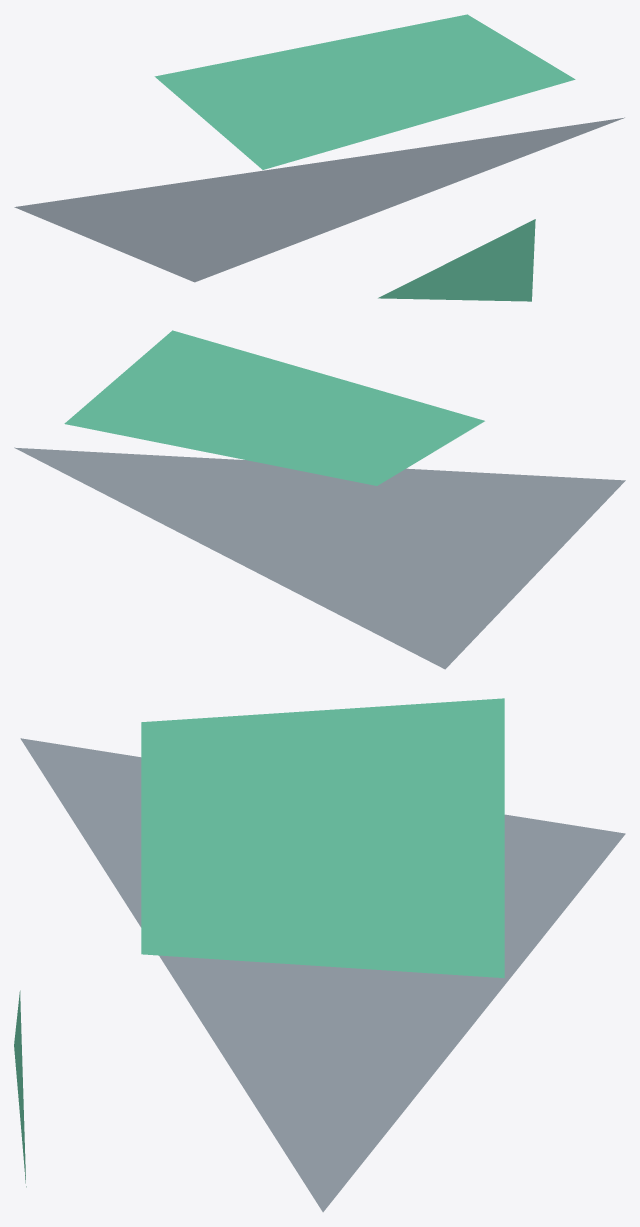
File: CO_QinglongMBT_LOD2.glb
The picture shows the model from 3 angles, top to bottom: view 1: azimuth 30°, elevation 25°; view 2: azimuth 150°, elevation 25°; view 3: azimuth 270°, elevation 25°; orthographic projection. The views are drawn at different scales.
Parts seen in each view (by area): view 1: EntranceGate; view 2: EntranceGate; view 3: EntranceGate.
Boxes of the visible parts, x1,y1,x2,y2 form: EntranceGate: [14, 14, 624, 301]; EntranceGate: [14, 330, 625, 669]; EntranceGate: [14, 698, 625, 1212].
Bounding box in the file's own units: 550 × 179 × 333.
